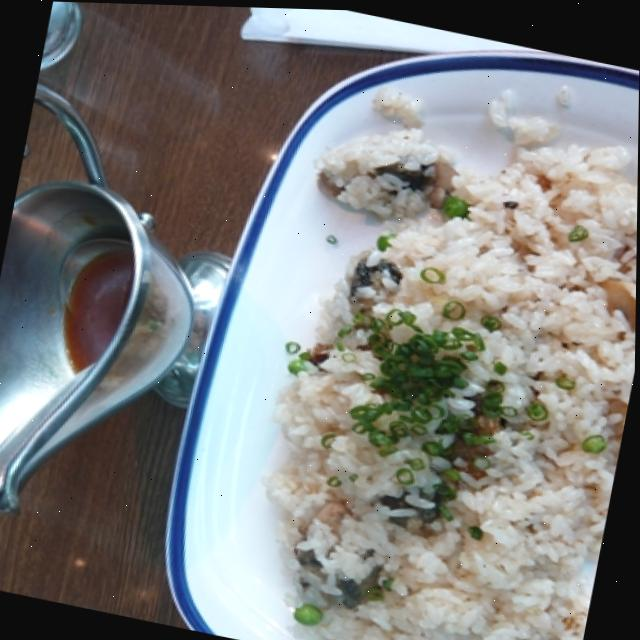米饭主食: (134, 3, 640, 640)
